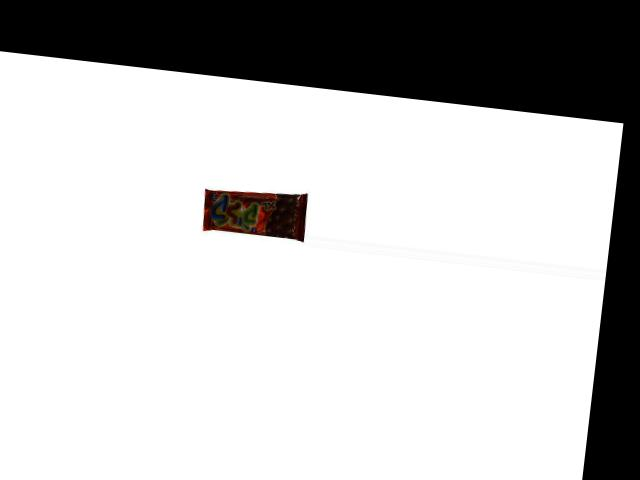chocolate: (200, 184, 308, 242)
